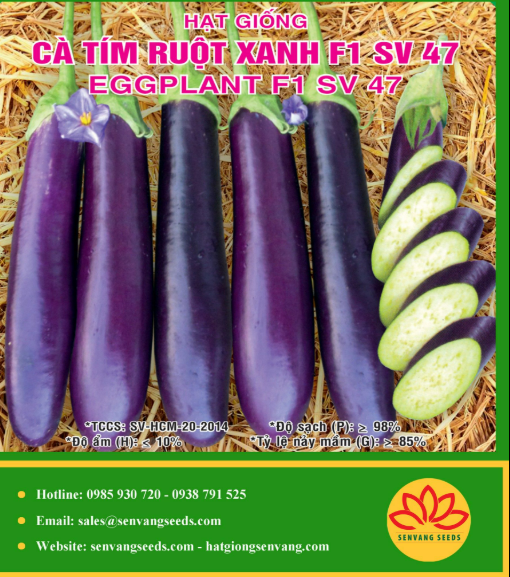catim: (293, 34, 399, 443), (219, 28, 311, 446), (147, 20, 233, 446), (77, 7, 154, 458), (16, 4, 70, 447)
